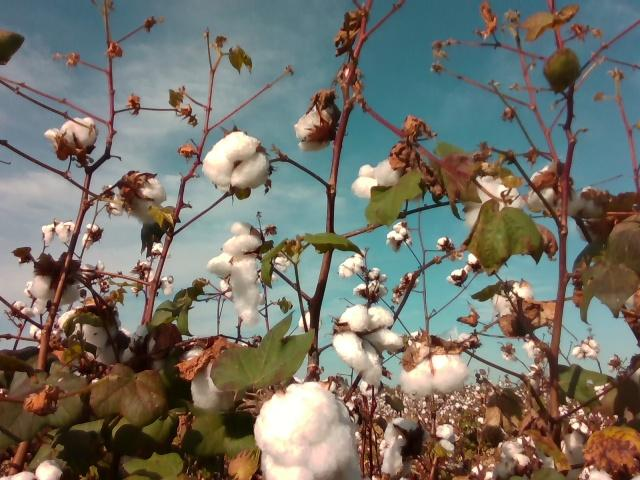cotton_ready: (256, 381, 359, 480), (334, 306, 404, 386), (203, 131, 270, 192), (224, 221, 261, 324), (187, 345, 238, 411), (401, 350, 470, 398), (529, 164, 584, 219), (473, 435, 537, 480), (467, 174, 522, 225), (59, 306, 119, 351), (379, 417, 418, 477), (540, 432, 587, 477), (125, 171, 165, 222), (44, 117, 97, 154), (353, 160, 401, 200), (28, 269, 78, 304), (294, 109, 332, 152), (493, 282, 534, 315), (0, 460, 61, 480), (584, 461, 639, 480), (580, 188, 609, 220)
